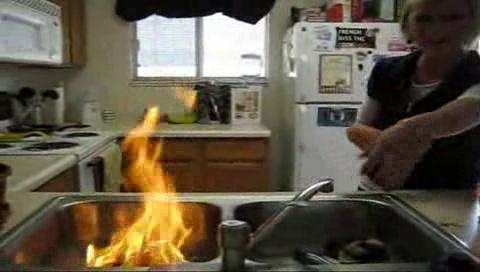fire: (90, 118, 189, 260)
